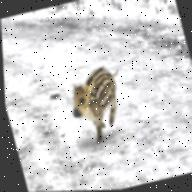boar: (54, 57, 146, 145)
